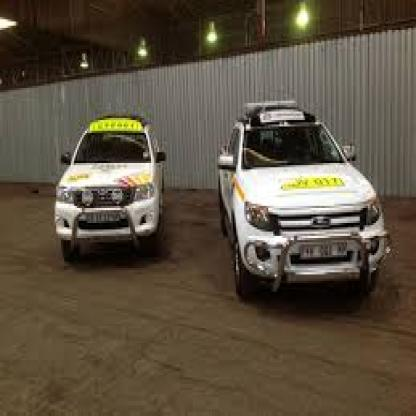light_vehicle: (214, 81, 387, 326), (40, 99, 178, 272)
